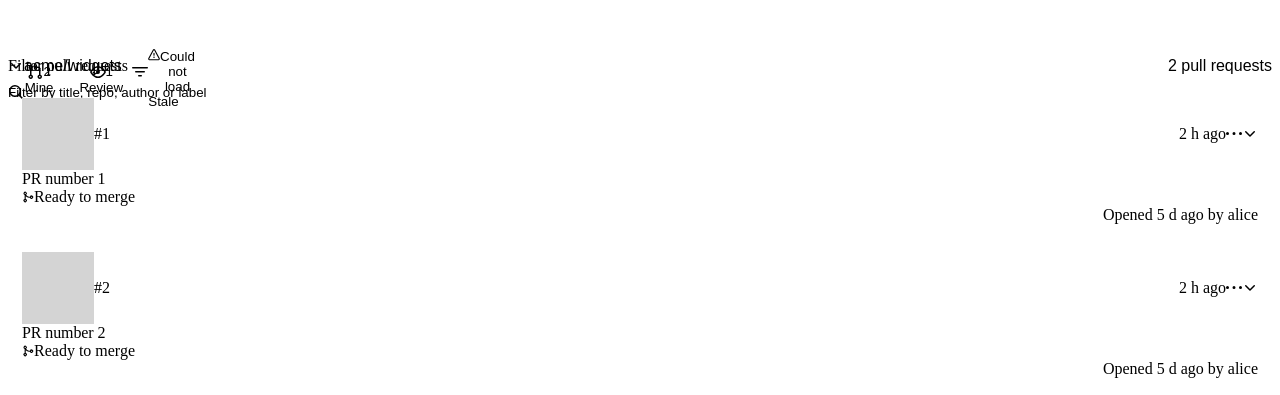
Test: several sections › shows what went wrong in a section that failed instead of an empty state
Click the tab "Stale Could not load". click: (164, 79)
box: [132,48,195,110]
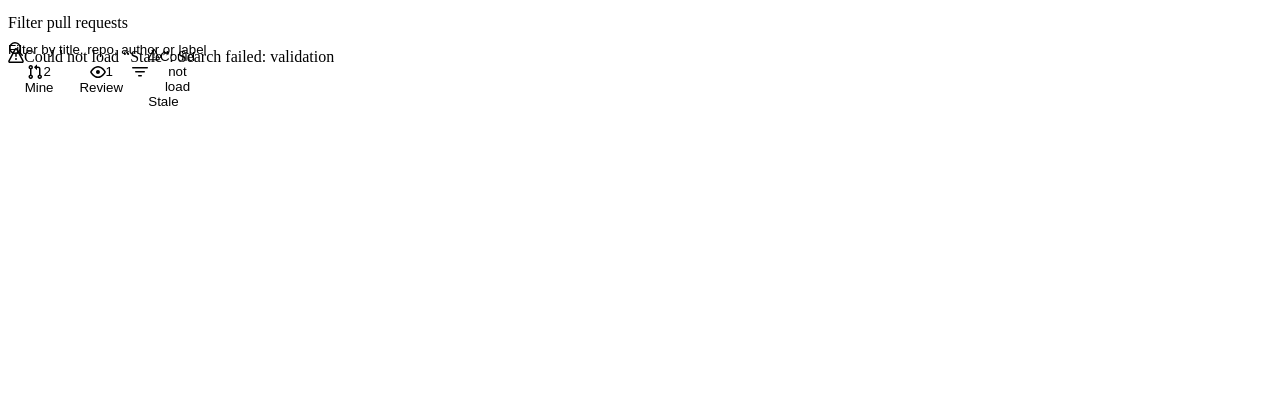
Check: the text "Could not load “Stale”: Search failed: validation" is shown, box [24,48,334,66]
